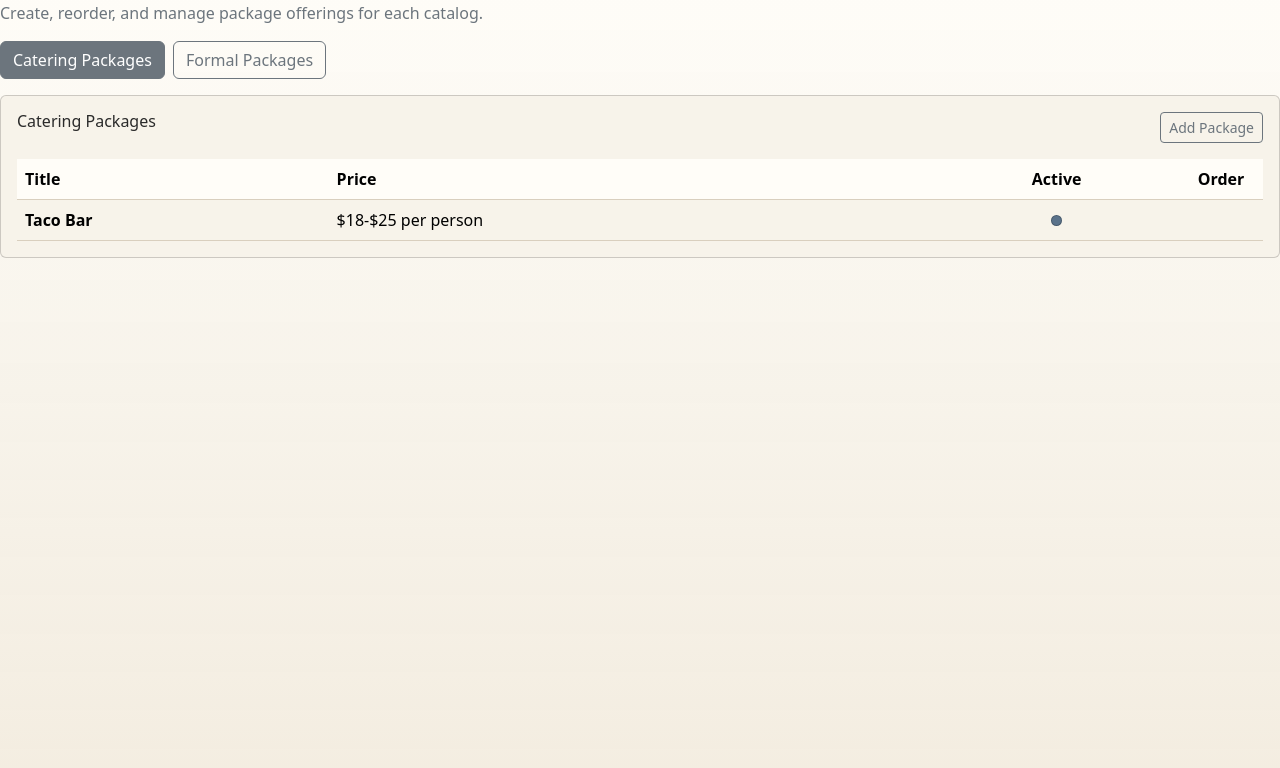
Scenario: AdminServicePlansPage › surfaces custom customer choices when editing a package like taco bar
This screenshot has width=1280, height=768.
Expected: the text "Taco Bar" is shown, x1=25 y1=209 x2=93 y2=231
What coordinates should you click on to do the following:
click the button "Taco Bar $18-$25 per person"
I would click on:
 (640, 220)
Its box is x1=17 y1=199 x2=1263 y2=240.
(page scrolled)
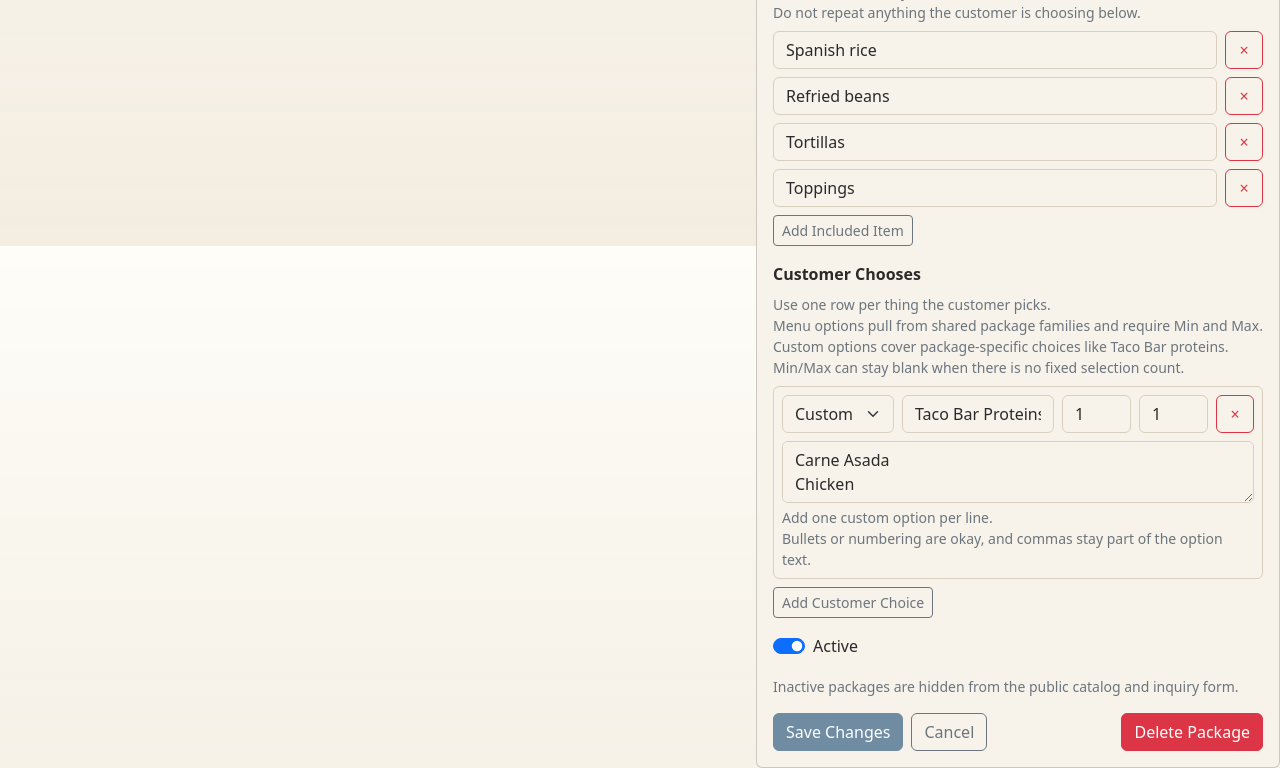
Result: the dropdown showing "Custom options" is shown at x1=782 y1=394 x2=894 y2=432
Result: the 5th field showing "Taco Bar Proteins" is shown at x1=902 y1=394 x2=1054 y2=432
